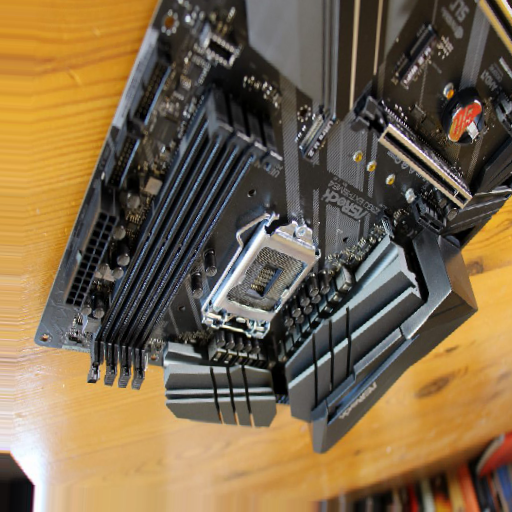CPU: (204, 216, 319, 342)
GPU: (349, 91, 474, 212)
MOTHERBOARD: (21, 1, 510, 456)
RAM: (85, 91, 284, 390)
SSD: (402, 29, 439, 94), (419, 188, 453, 234)
